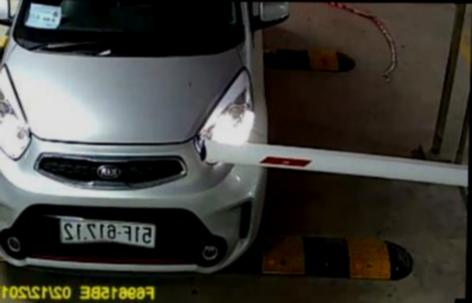License_Plate: (56, 216, 157, 247)
